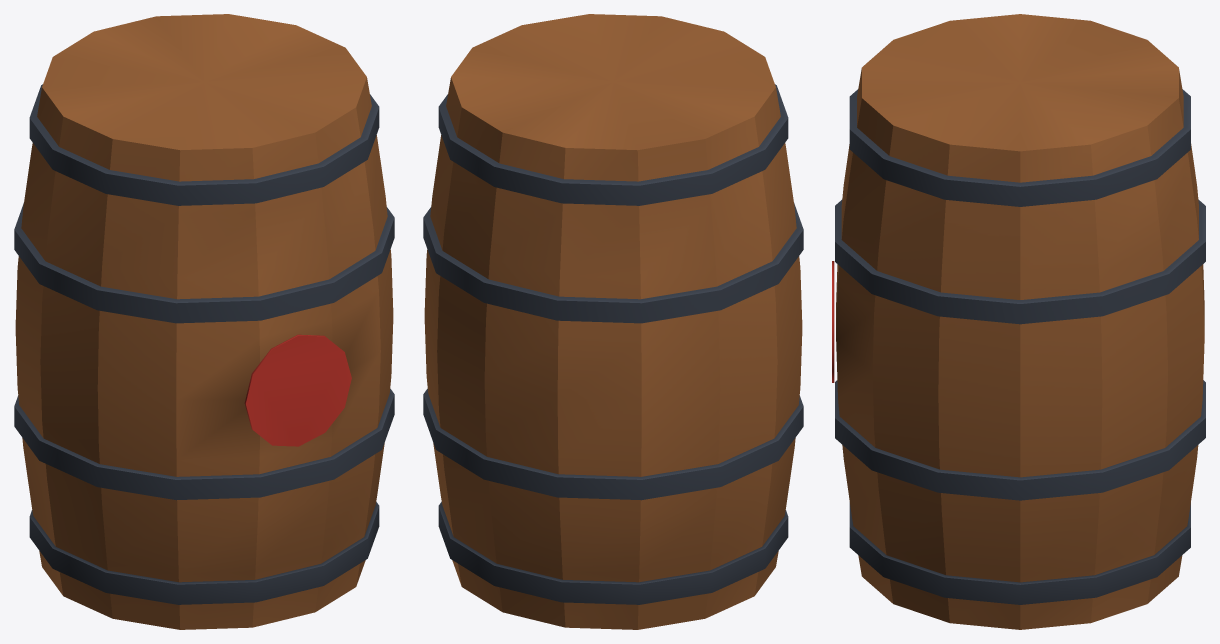
Rendered from barrel.glb.
The picture shows the model from 3 angles, left to right: view 1: azimuth 30°, elevation 25°; view 2: azimuth 150°, elevation 25°; view 3: azimuth 270°, elevation 25°; orthographic projection.
Visible parts, largest first — view 1: Barrel Wood, Barrel Iron, Barrel Red paint; view 2: Barrel Wood, Barrel Iron; view 3: Barrel Wood, Barrel Iron.
Boxes of the visible parts, <box> form: Barrel Wood: <box>15,14,393,629</box>; Barrel Iron: <box>14,84,394,604</box>; Barrel Red paint: <box>244,334,351,446</box>; Barrel Wood: <box>424,14,802,629</box>; Barrel Iron: <box>423,84,803,604</box>; Barrel Wood: <box>836,14,1204,629</box>; Barrel Iron: <box>835,89,1205,604</box>.
Size of the model in its own units: 0.6845 by 0.95 by 0.6723.
